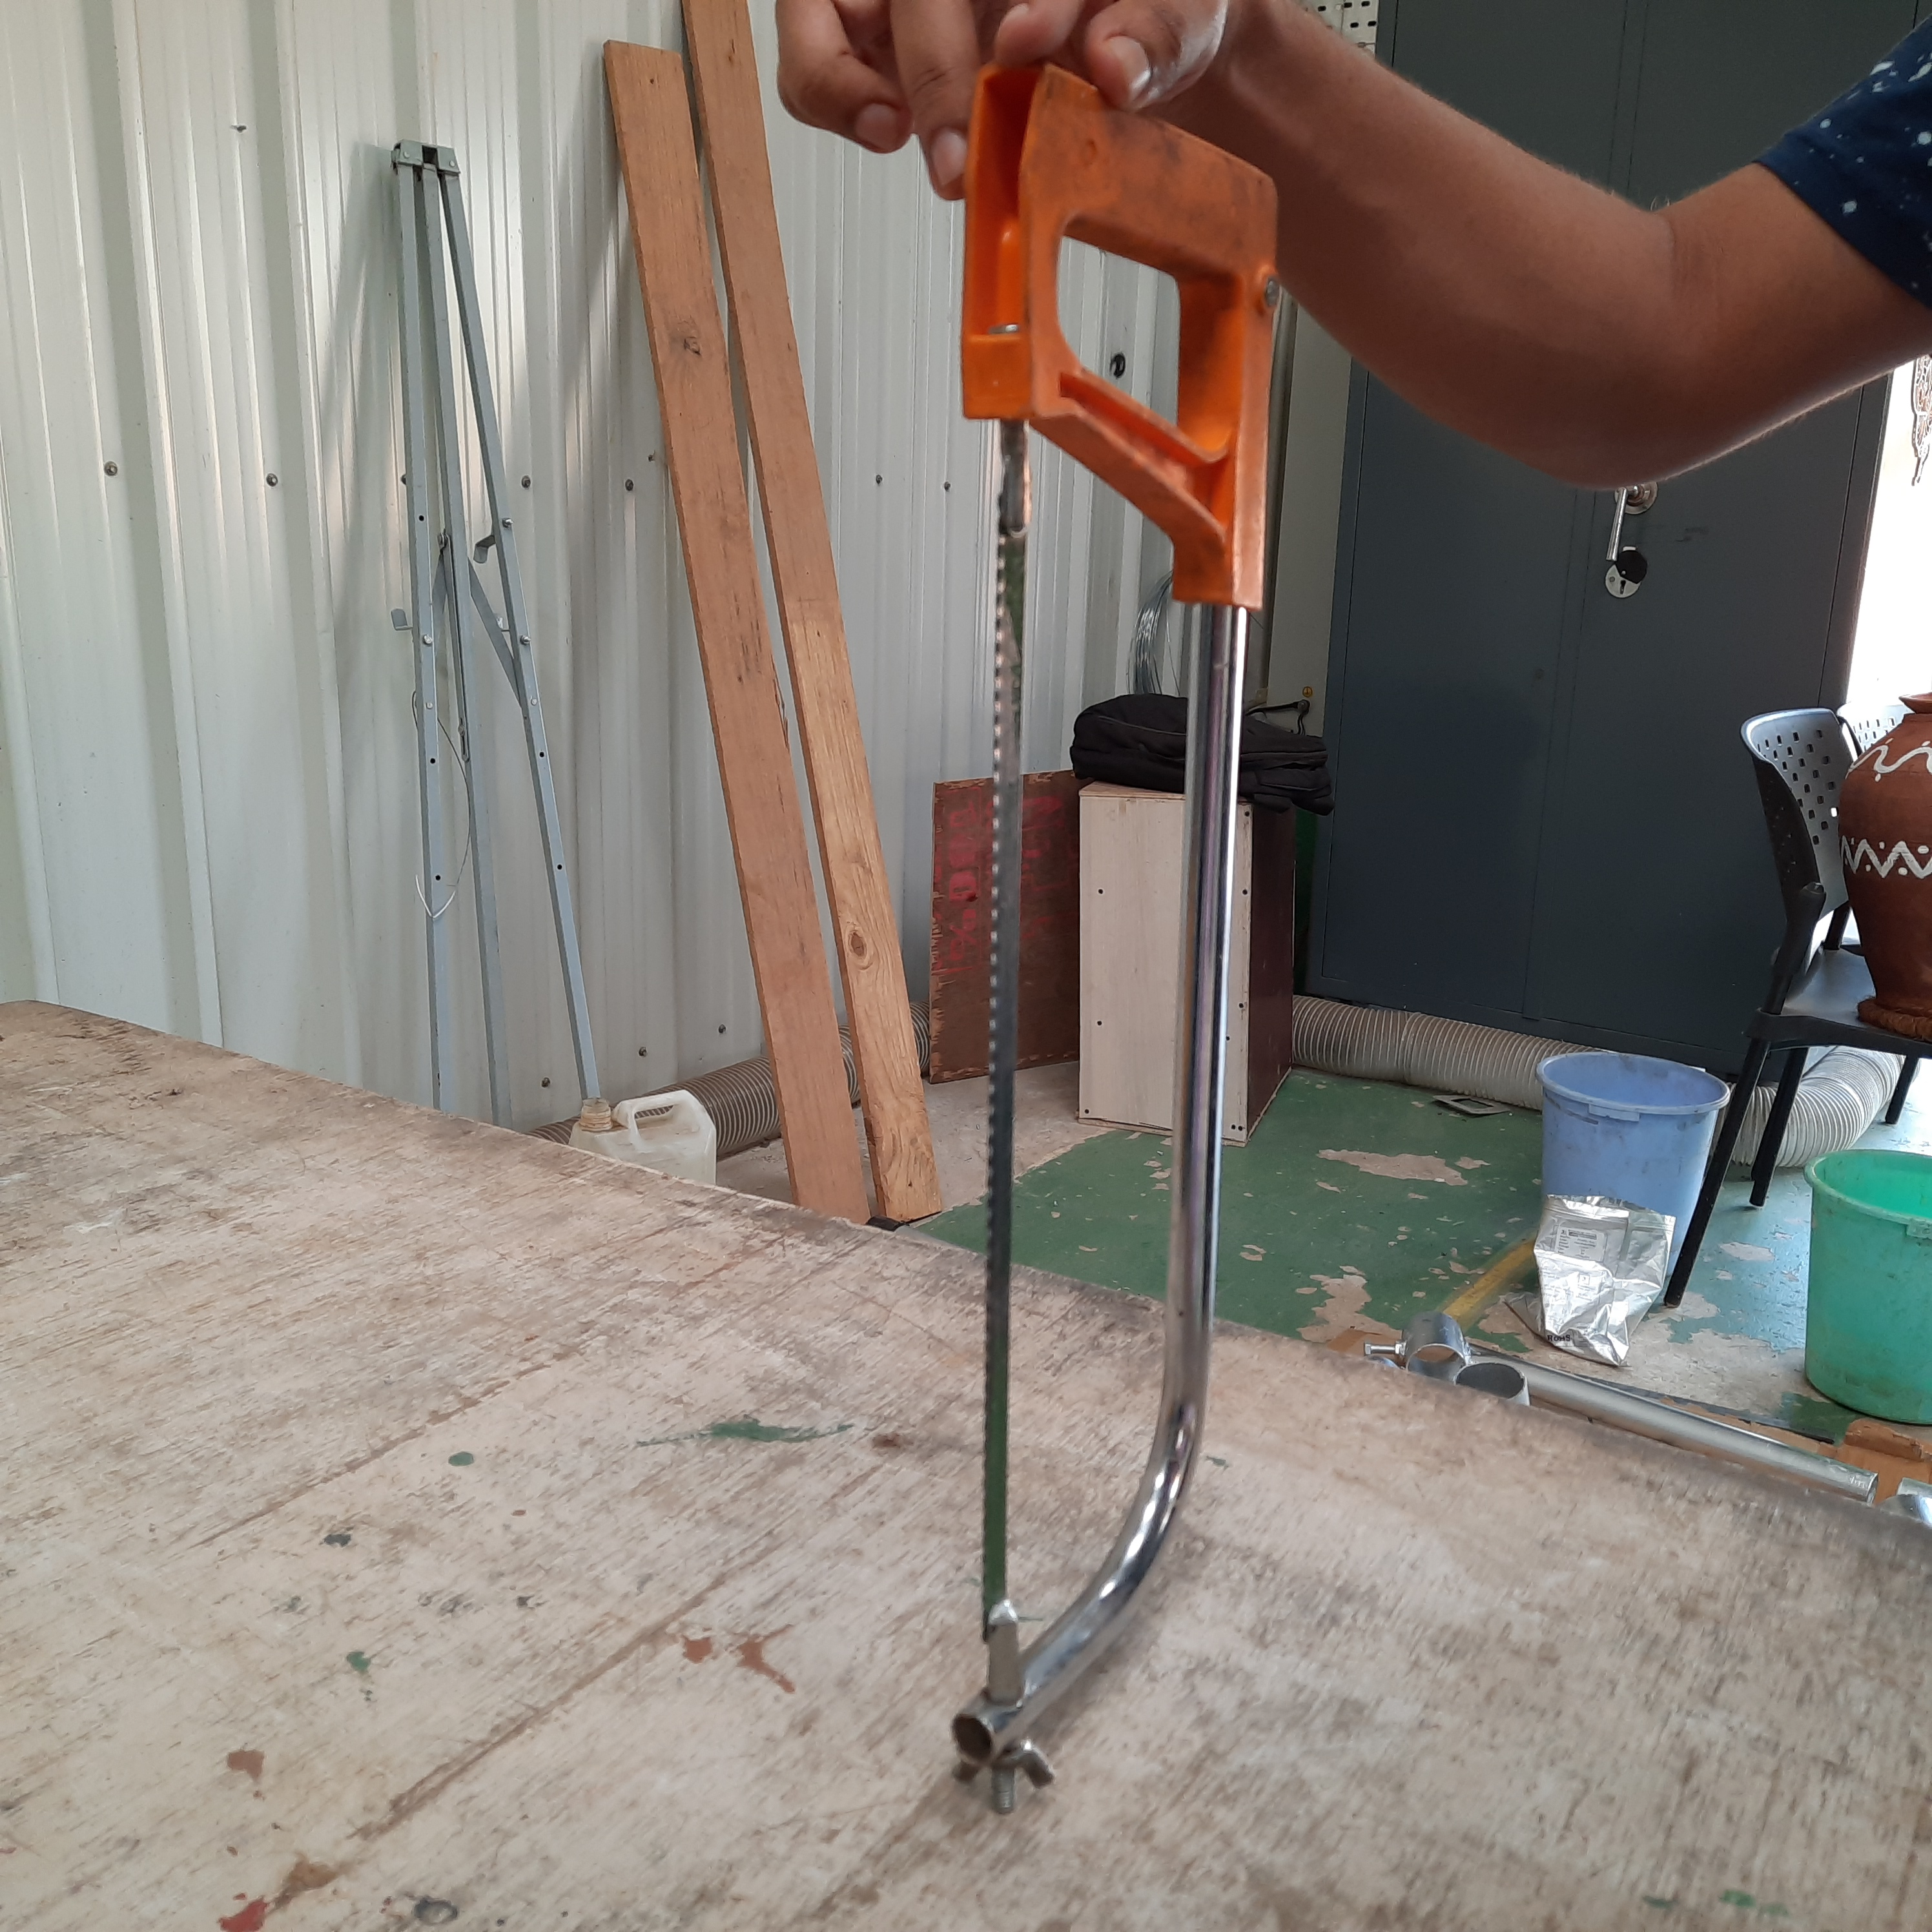Hexaframe: (939, 21, 1313, 1776)
